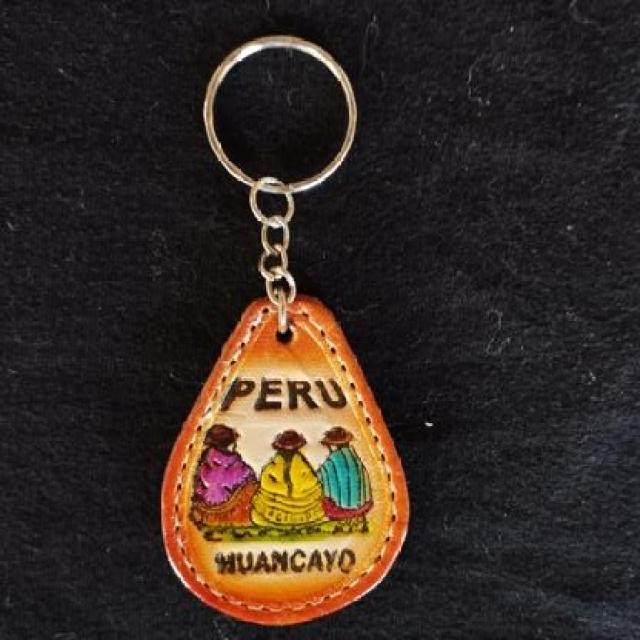Llavero: (159, 292, 412, 626)
